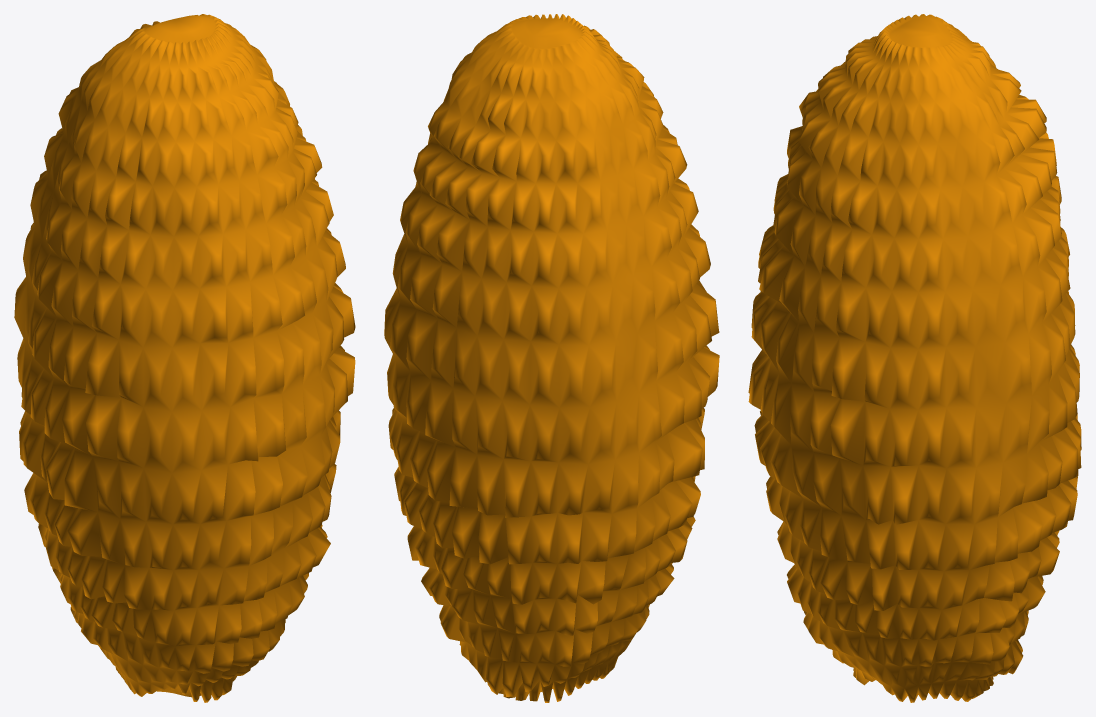
The model's file is corn.fbx.
3 renders of one model, left to right at view 1: azimuth 30°, elevation 25°; view 2: azimuth 150°, elevation 25°; view 3: azimuth 270°, elevation 25°, orthographic.
Visible parts, largest first — view 1: Cylinder; view 2: Cylinder; view 3: Cylinder.
Boxes of the visible parts, box(x1,y1,x2,y2) form: Cylinder: box(14, 14, 355, 702); Cylinder: box(384, 14, 719, 702); Cylinder: box(748, 14, 1081, 702).
Bounding box in the file's own units: 0.2475 × 0.5447 × 0.2492.
